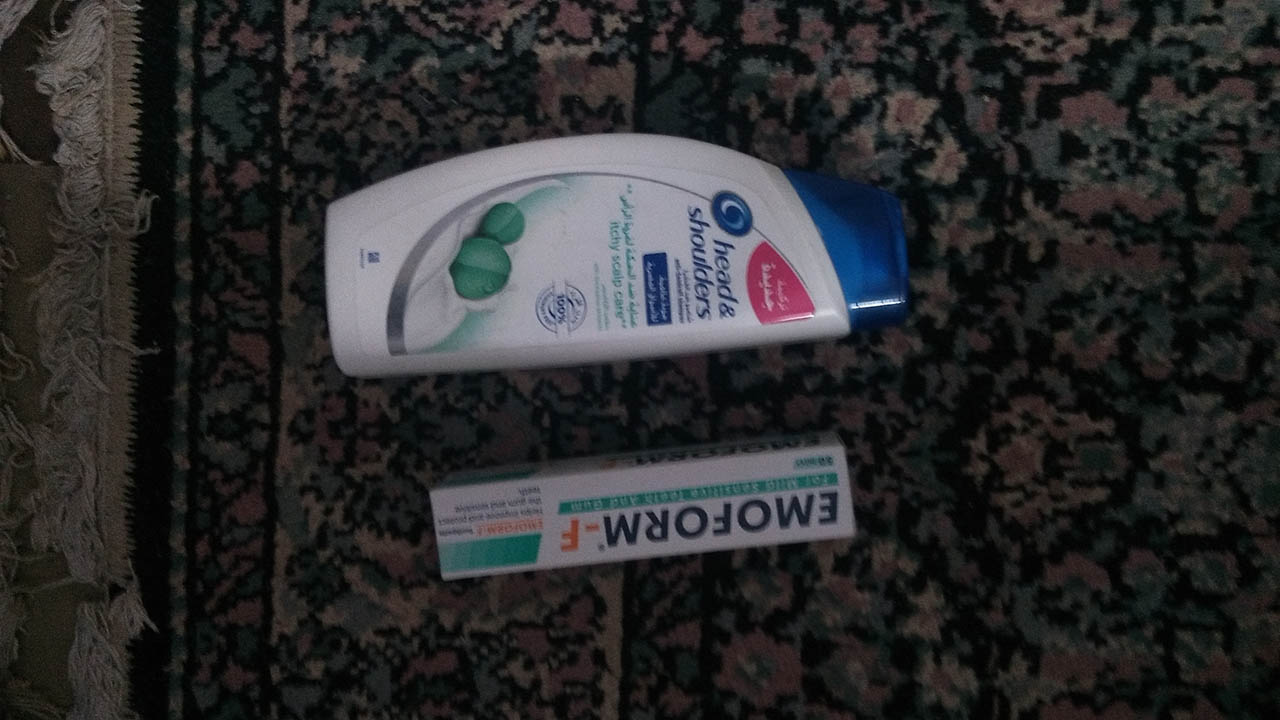Toothpaste-F 1.5$: (397, 422, 858, 602)
shampoo-green 4.5$: (321, 90, 920, 383)
